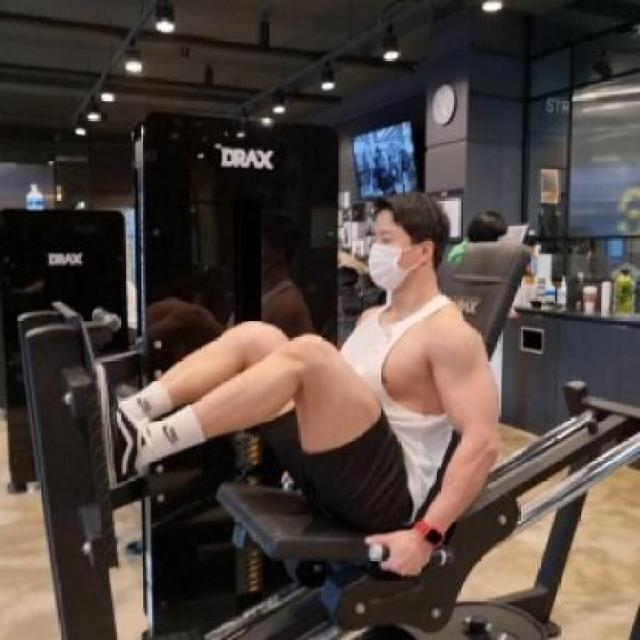leg press: (14, 97, 640, 640)
